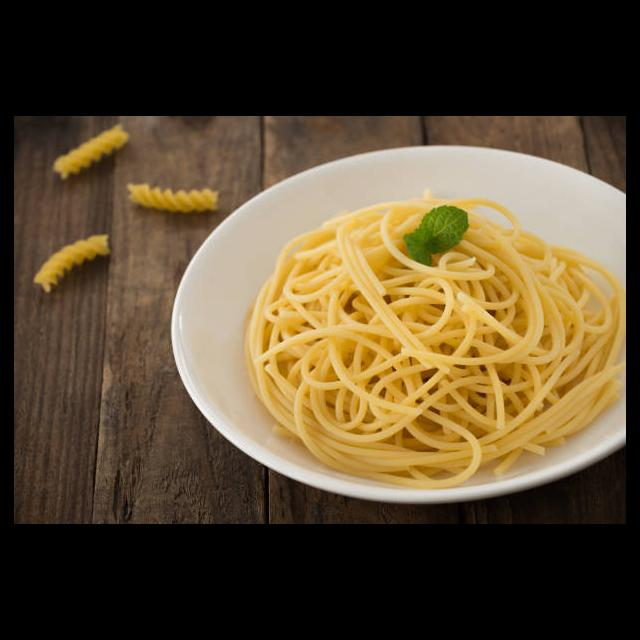noodles: (239, 188, 626, 491)
